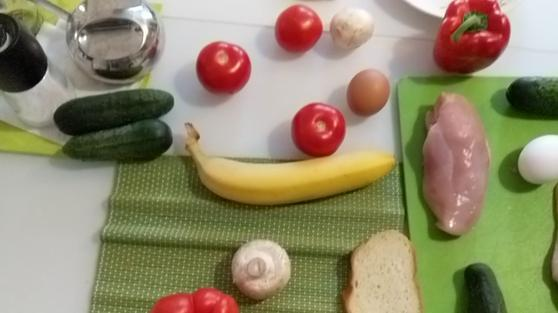banana: (179, 122, 400, 210)
champignon: (229, 234, 296, 303), (329, 1, 374, 53)
chicken_fillet: (420, 88, 492, 244)
cucumber: (56, 88, 179, 138), (67, 116, 172, 162), (459, 262, 510, 313), (506, 72, 558, 116)
egg: (514, 130, 558, 191), (346, 67, 393, 115)
pepper: (430, 1, 515, 74)
tomato: (190, 38, 257, 97), (292, 102, 346, 158), (272, 5, 324, 52)
white_bread: (343, 230, 425, 313)
